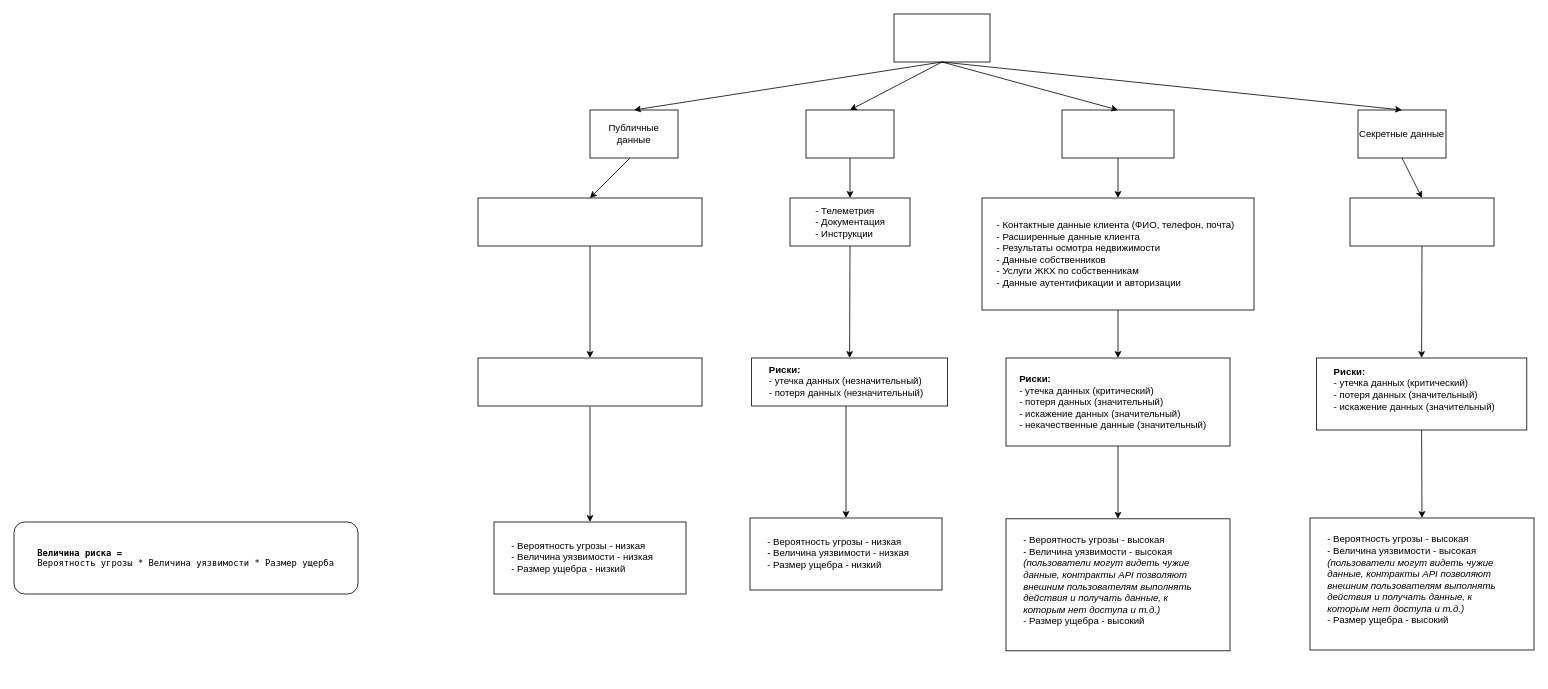
Some shapes in this 1548 by 689 pixel diagram are drawn without their labels. The centre of each missing label's shape, as x and y in pixels:
- Объекты недвижимости - Информация об объектах недвижимости - Список услуг ЖКХ: the point at 589,221
- Финансовые данные: the point at 1421,221
Безопасность данных: the point at 941,37
Внутренние данные: the point at 849,133
Конфиденциальные данные: the point at 1117,133
Риски: - искажение данных (незначительный): the point at 589,381
